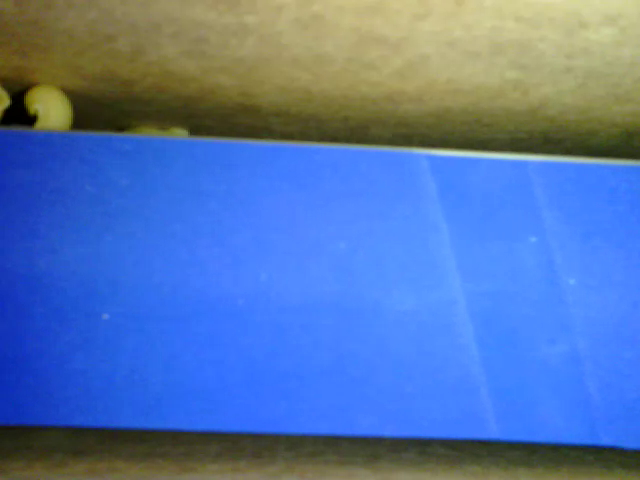shell: (22, 86, 74, 133)
